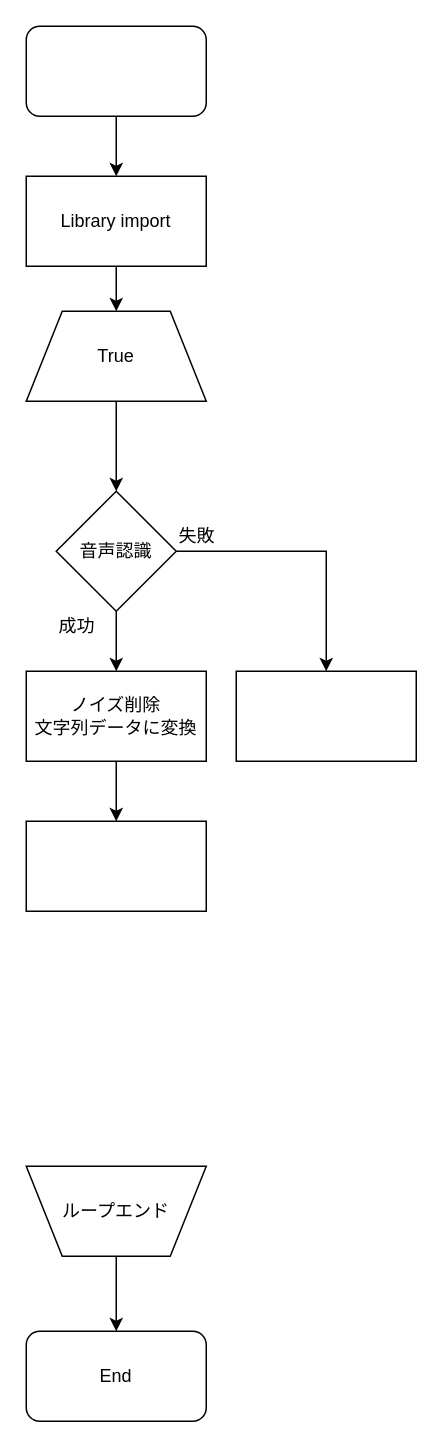
Image size: 443x1448. Some labels were removed from this diagram. Each missing label, with the centre of its shape:
"Start" belongs at (x=115, y=70).
"よく聞き取れませんでしたと表示" belongs at (x=325, y=715).
"文字列の形態素分析" belongs at (x=115, y=865).
